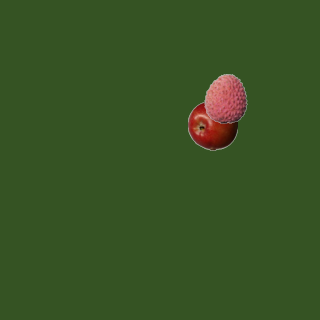Apple Braeburn: (187, 100, 237, 150)
Lychee: (200, 73, 250, 123)
